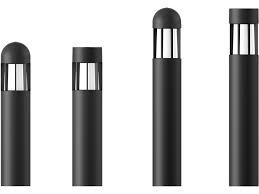Animal: (65, 42, 107, 187), (151, 4, 180, 194), (0, 38, 32, 189), (233, 6, 256, 178)
